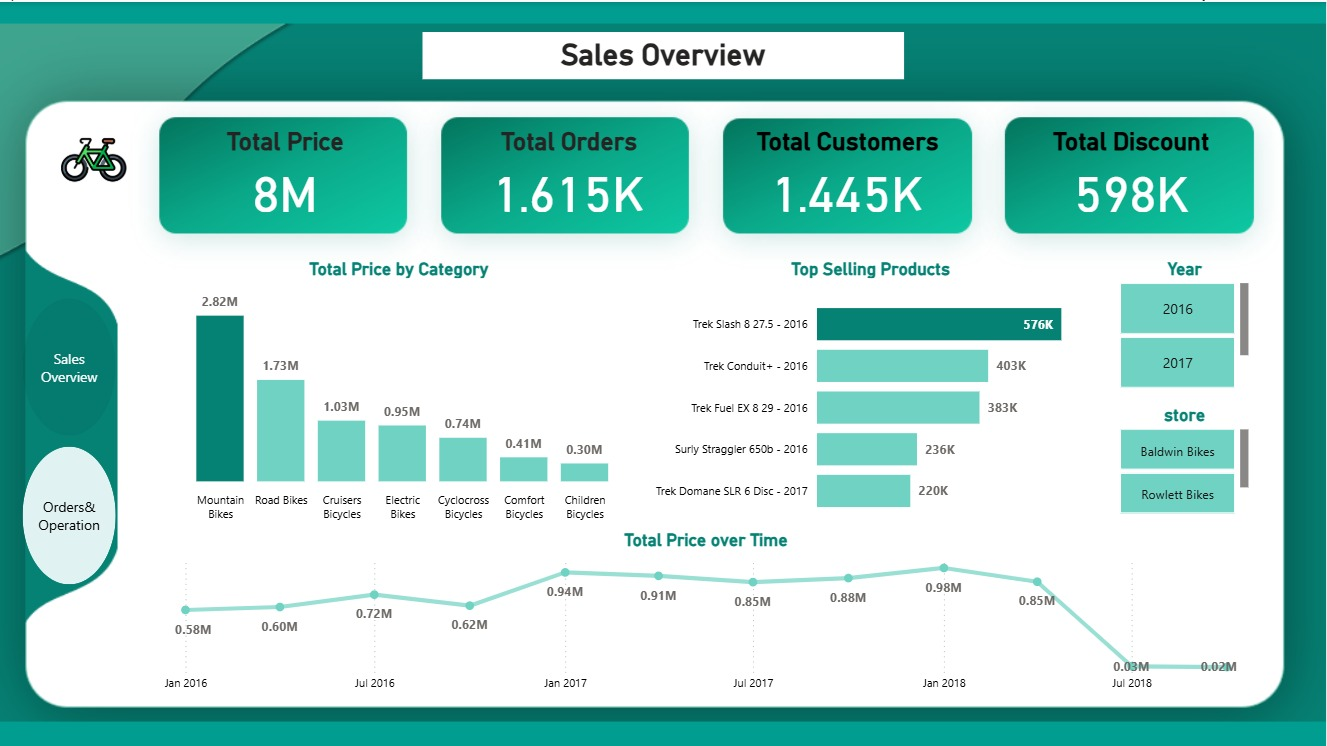

This screenshot's page, from the dashboard's own definition file:
{"tool":"powerbi","page":{"name":"Sales Overview","canvas":[1280,720],"ordinal":0},"visuals":[{"type":"cardVisual","title":"Total Price","fields":{"Data":["Sum(order_items.Total_price)"]},"box":[161.6,120.3,227.4,99.2],"z":0},{"type":"clusteredColumnChart","title":"Total Price by Category","fields":{"Y":["Sum(order_items.Total_price)"],"Category":["categories.category_name"]},"box":[153.7,246.7,463.6,262.5],"z":1000},{"type":"clusteredBarChart","title":"Top Selling Products","fields":{"Category":["products.product_name"],"Y":["Sum(order_items.Total_price)"]},"box":[617.3,246.7,445.2,262.5],"z":2000},{"type":"advancedSlicerVisual","fields":{"Values":["Date.Date.Variation.Date Hierarchy.Year"]},"box":[1075.6,246.7,134.3,135.2],"z":3000},{"type":"lineChart","title":"Total Price over Time","fields":{"Y":["Sum(order_items.Total_price)"],"Category":["Date.Date.Variation.Date Hierarchy.Year","Date.Date.Variation.Date Hierarchy.Quarter","Date.Date.Variation.Date Hierarchy.Month","Date.Date.Variation.Date Hierarchy.Day"]},"box":[153.7,509.3,1056.3,165.1],"z":4000},{"type":"cardVisual","title":"Total Orders","fields":{"Data":["Measure.Total Orders"]},"box":[436.4,120.3,224.8,99.2],"z":5000},{"type":"cardVisual","title":"Total Customers","fields":{"Data":["Count(customers.customer_id)"]},"box":[706.8,120.3,222.1,99.2],"z":6000},{"type":"cardVisual","title":"Total Discount","fields":{"Data":["Measure.Total Discount"]},"box":[973.8,120.3,236.2,99.2],"z":7000},{"type":"advancedSlicerVisual","title":"store","fields":{"Values":["stores.store_name"]},"box":[1075.6,388.1,134.3,121.2],"z":8000},{"type":"image","box":[28.1,120.3,125.6,63.2],"z":9000},{"type":"pageNavigator","box":[22,285.4,90.4,277.5],"z":10000},{"type":"textbox","box":[407.4,29,464.5,45.7],"z":11000}]}

Visuals, with their boxes in screenshot pixels (x1, y1, x2, y2), scaled from the page's 1280x720 canvas onto the 1327x746 screenshot:
"Total Price" cardVisual: pyautogui.locateOnScreen(168, 125, 403, 227)
"Total Price by Category" clusteredColumnChart: pyautogui.locateOnScreen(159, 256, 640, 528)
"Top Selling Products" clusteredBarChart: pyautogui.locateOnScreen(640, 256, 1102, 528)
advancedSlicerVisual - Date.Date.Variation.Date Hierarchy.Year: pyautogui.locateOnScreen(1115, 256, 1254, 396)
"Total Price over Time" lineChart: pyautogui.locateOnScreen(159, 528, 1254, 699)
"Total Orders" cardVisual: pyautogui.locateOnScreen(452, 125, 685, 227)
"Total Customers" cardVisual: pyautogui.locateOnScreen(733, 125, 963, 227)
"Total Discount" cardVisual: pyautogui.locateOnScreen(1010, 125, 1254, 227)
"store" advancedSlicerVisual: pyautogui.locateOnScreen(1115, 402, 1254, 528)
image: pyautogui.locateOnScreen(29, 125, 159, 190)
pageNavigator: pyautogui.locateOnScreen(23, 296, 117, 583)
textbox: pyautogui.locateOnScreen(422, 30, 904, 77)
